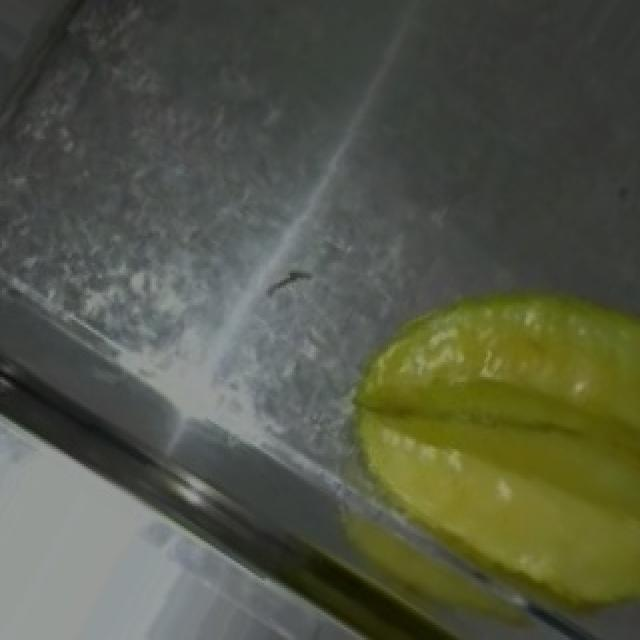fruit: (282, 225, 640, 640)
